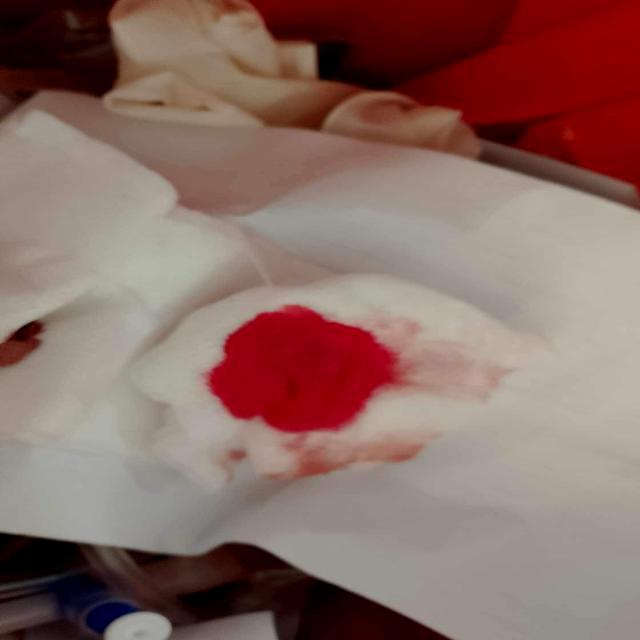Infectious: (126, 270, 552, 493)
Pathological: (2, 85, 637, 636)
Sharps: (0, 573, 279, 639)
